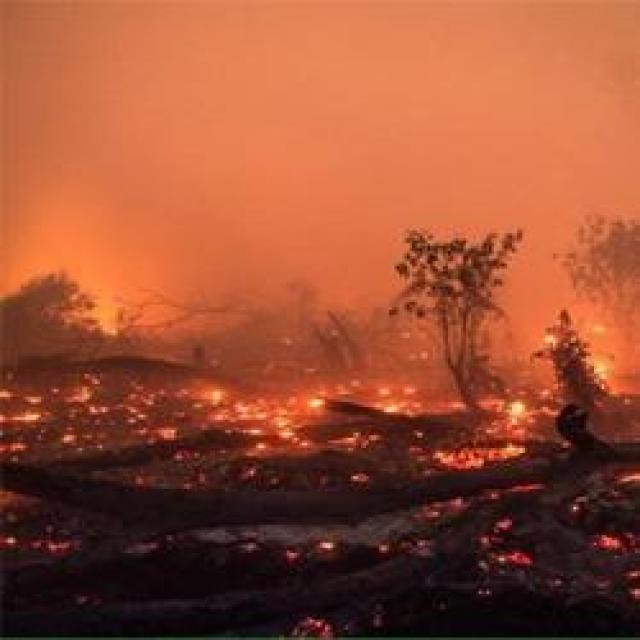fire: (440, 445, 524, 467), (266, 409, 302, 446), (306, 390, 328, 410), (592, 356, 612, 378), (383, 398, 403, 420), (509, 402, 528, 424), (210, 390, 222, 402)
